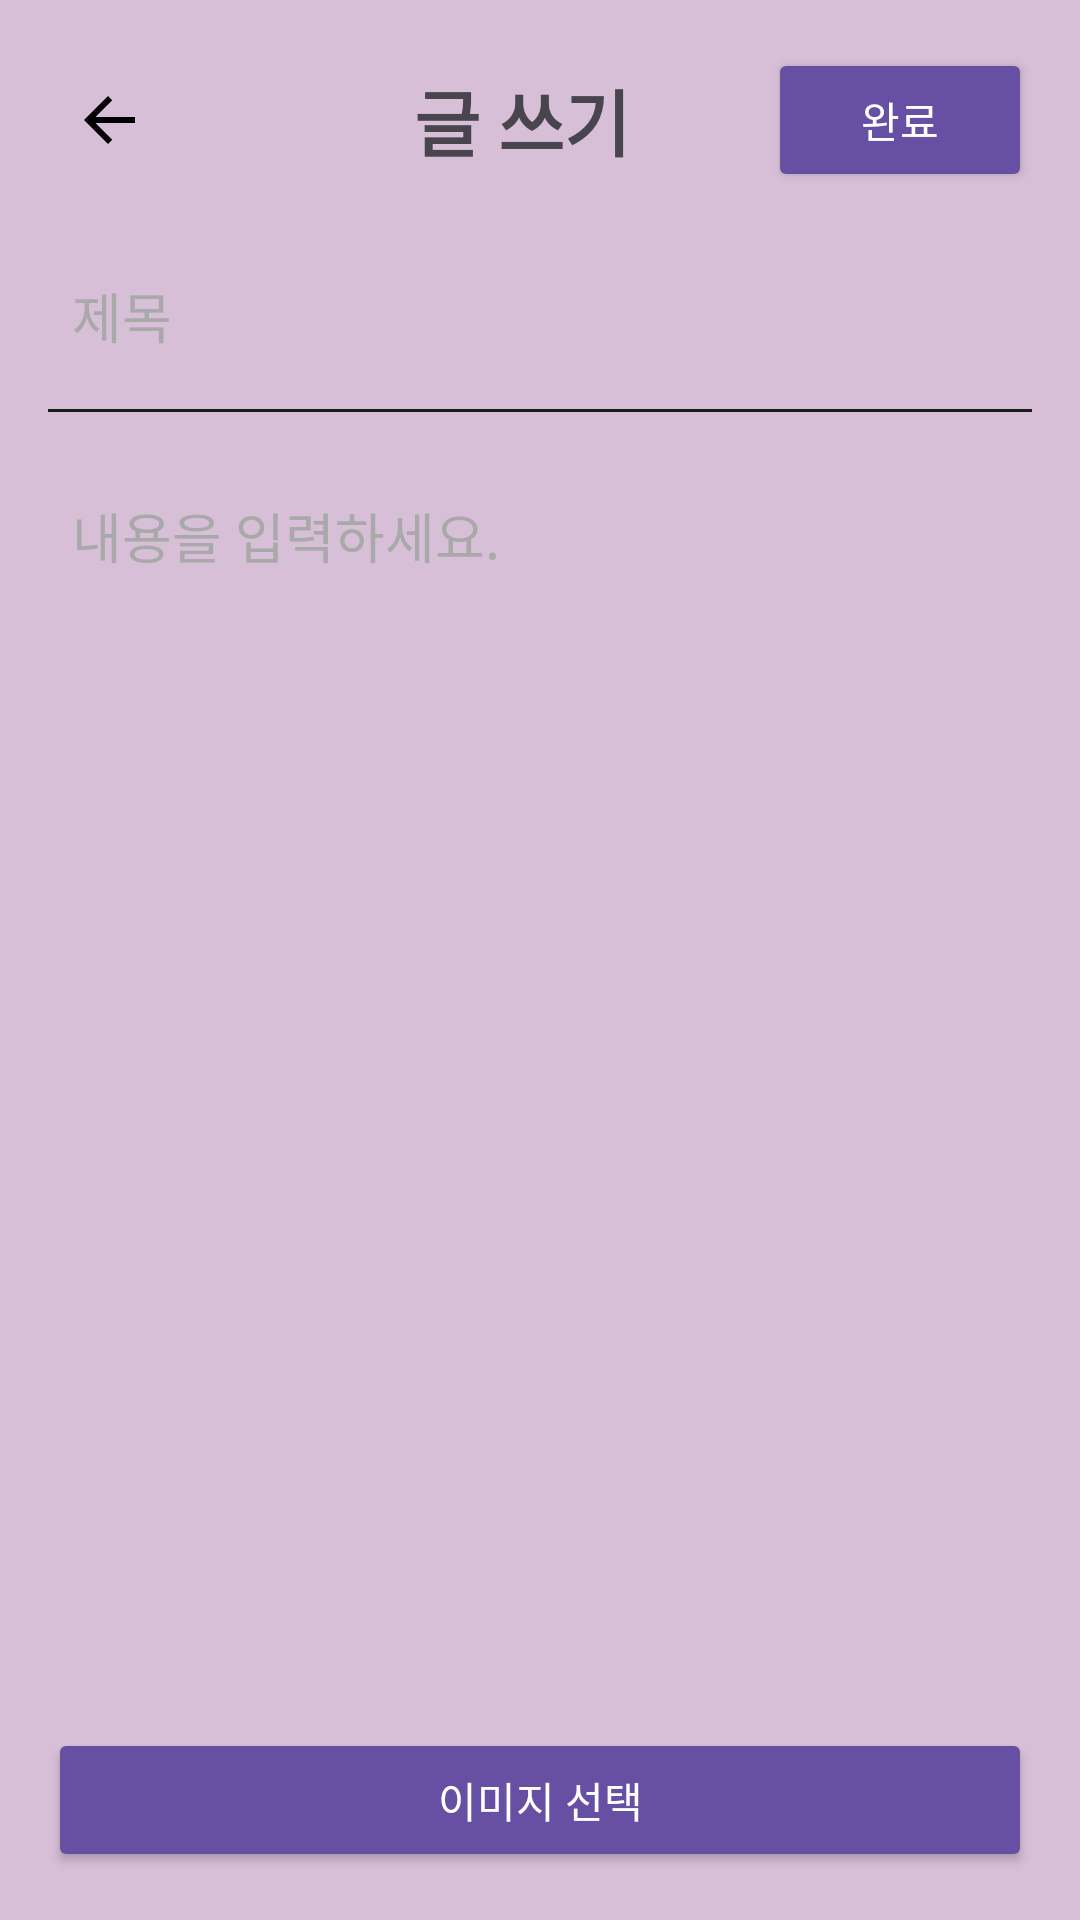

Screen size 1080w x 1920h. Icon name, then its center in pixels as (x=x, y=y):
arrow back: (x=109, y=120)
